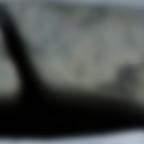brick: (0, 132, 143, 143), (35, 0, 143, 9)
crack: (0, 0, 143, 141)
